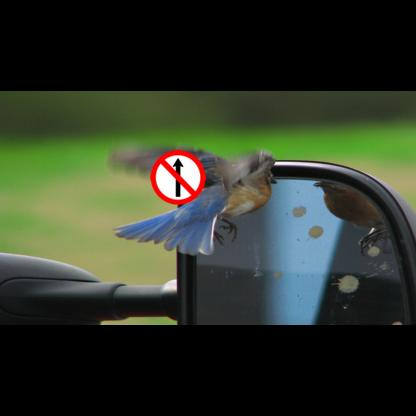R-3: (150, 150, 206, 205)
